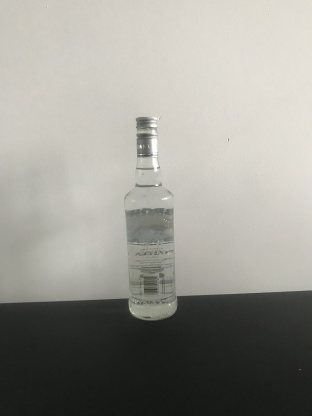nakretka: (134, 117, 159, 157)
